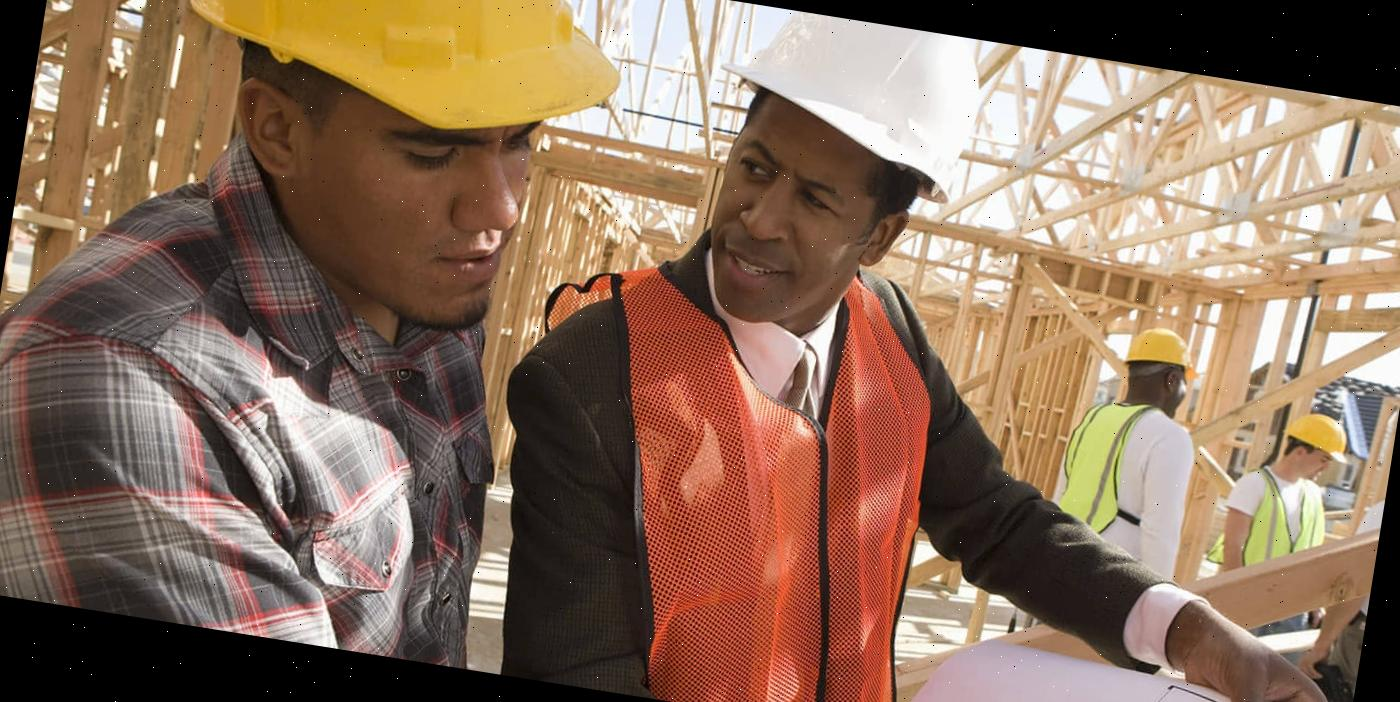helmet: (155, 0, 642, 159), (698, 0, 997, 208), (1122, 323, 1212, 384), (1275, 408, 1360, 468)
no_wear: (0, 248, 513, 668)
wear: (512, 284, 949, 702), (1054, 396, 1201, 550), (1213, 466, 1336, 587)
